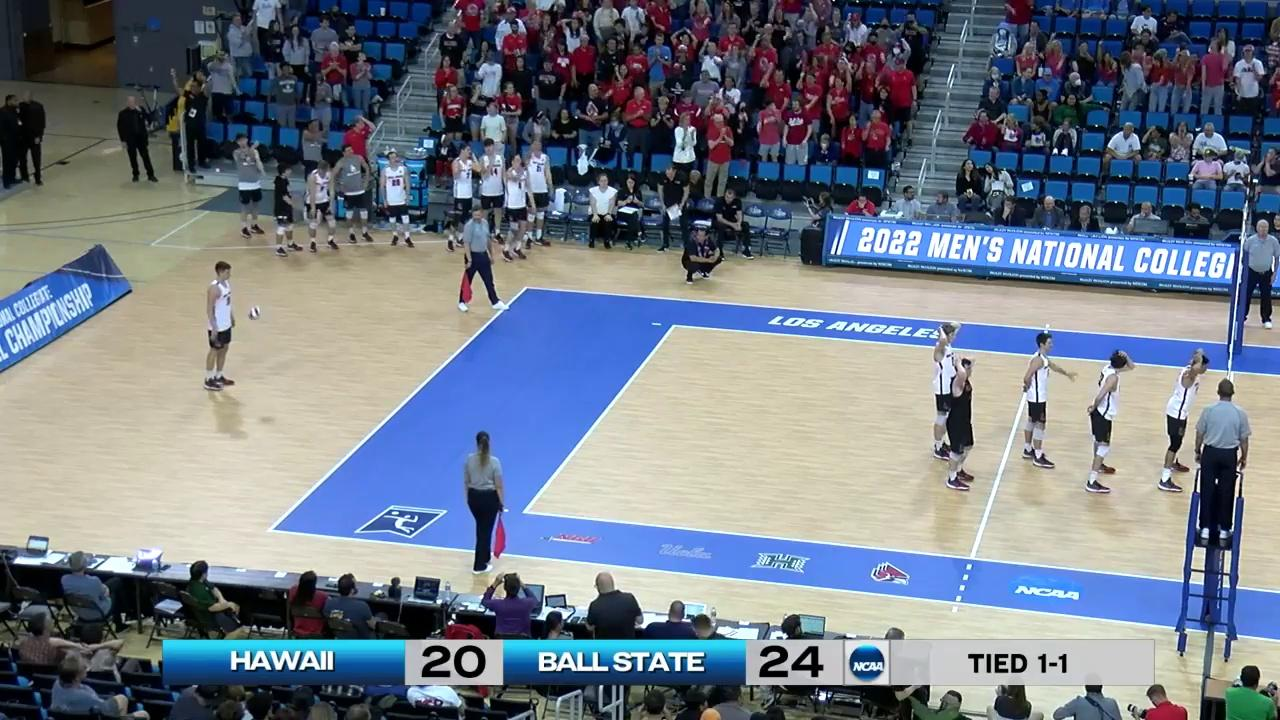player: (1016, 333, 1063, 471), (1157, 350, 1204, 488), (1085, 352, 1127, 492), (942, 346, 980, 493), (457, 209, 509, 312), (204, 263, 245, 387), (929, 326, 964, 465)
refree: (1193, 377, 1248, 541), (463, 433, 507, 570), (1241, 216, 1277, 333)
